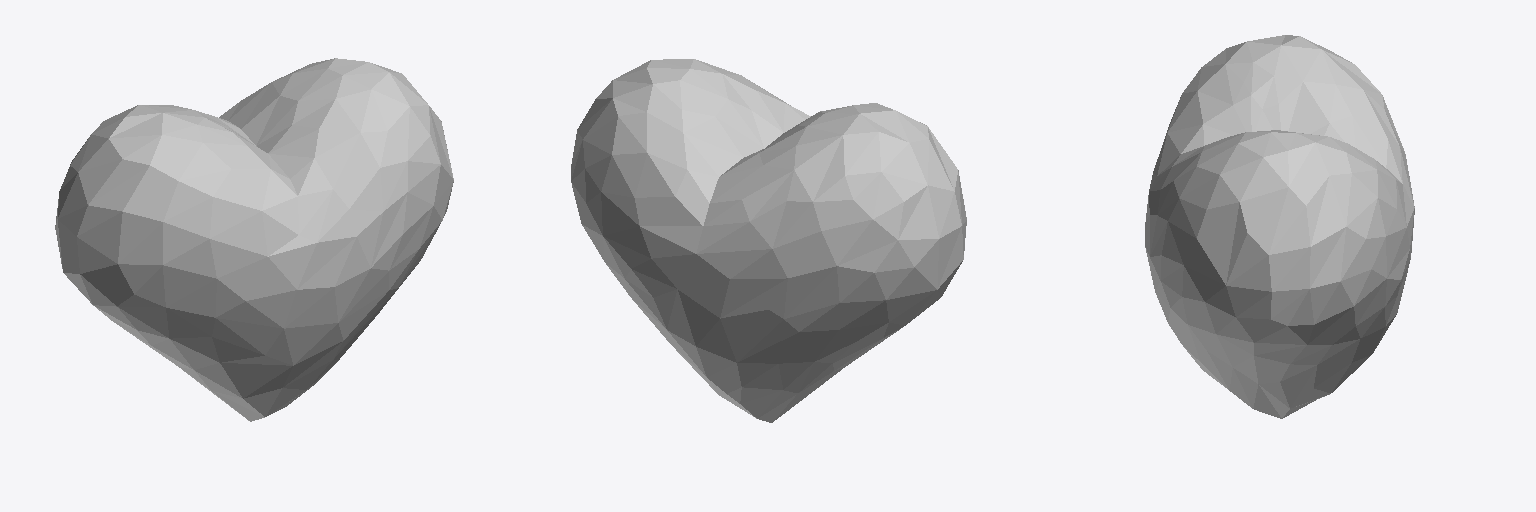
The model's file is heart.obj.
The picture shows the model from 3 angles: view 1: azimuth 30°, elevation 25°; view 2: azimuth 150°, elevation 25°; view 3: azimuth 270°, elevation 25°; orthographic projection.
Visible parts, largest first — view 1: Polygonal_heart; view 2: Polygonal_heart; view 3: Polygonal_heart.
Part boxes in pixels (bbox=[...]): Polygonal_heart: bbox=[55, 58, 453, 421]; Polygonal_heart: bbox=[571, 59, 966, 422]; Polygonal_heart: bbox=[1145, 35, 1414, 418].
Bounding box in the file's own units: 0.8255 × 0.6991 × 0.517.